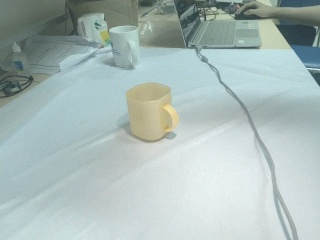cup: (126, 81, 181, 143), (109, 24, 141, 70)
